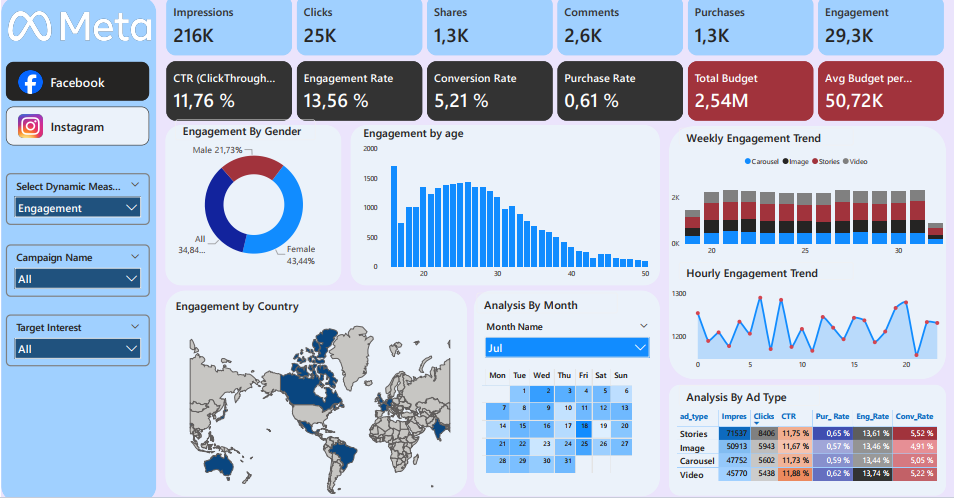

The page's visual inventory and layout, read from the dashboard file:
{"tool":"powerbi","page":{"name":"Facebook","canvas":[1620,940],"ordinal":0},"visuals":[{"type":"textbox","box":[371.7,0,590,61.7],"z":0},{"type":"shape","box":[0,82.7,263.2,857.3],"z":1000},{"type":"cardVisual","fields":{"Data":["ad_events.Impressions","ad_events.Clicks","ad_events.Shares","ad_events.Comments","ad_events.Purchases","ad_events.Engagement"]},"box":[263.2,63.9,1357.4,135.4],"z":2000},{"type":"cardVisual","fields":{"Data":["ad_events.CTR (ClickThrough Rate)","ad_events.Engagement Rate","ad_events.Conversion Rate","ad_events.Purchase Rate","ad_events.Total Budget","ad_events.Avg Budget per Campaign"]},"box":[263.2,174.8,1357.4,135.4],"z":4000},{"type":"slicer","fields":{"Values":["Select Dynamic Measure.Select Dynamic Measure"]},"box":[8.3,381.7,243.3,88.3],"z":5000},{"type":"shape","box":[278.2,300,298.9,272.6],"z":6000},{"type":"donutChart","fields":{"Category":["ads.target_gender"],"Y":["ad_events.Engagement"]},"box":[291.4,302.7,274.5,265.1],"z":7000},{"type":"cardVisual","fields":{"Data":["Select Dynamic Measure.Gender Title"]},"box":[278.2,274.5,272.6,69.6],"z":8000},{"type":"shape","box":[592.2,300,524.5,272.6],"z":9000},{"type":"columnChart","title":"Engagement by age","fields":{"Category":["users.user_age"],"Y":["ad_events.Engagement"]},"box":[609.1,300.8,494.4,268.8],"z":10000},{"type":"shape","box":[278.2,580.9,511.4,349.7],"z":11000},{"type":"shapeMap","title":"Engagement by Country","fields":{"Category":["users.country"],"Value":["ad_events.Engagement"]},"box":[291.4,594.1,498.2,336.5],"z":12000},{"type":"shape","box":[801,580.9,316,349.7],"z":13000},{"type":"pivotTable","fields":{"Columns":["Calendar.Day Name"],"Rows":["Calendar.Week Number"],"Values":["Sum(Calendar.Month Day)"]},"box":[810.8,709.7,301.1,220.4],"z":14000},{"type":"slicer","fields":{"Values":["Calendar.Month Name"]},"box":[809.7,626.9,298.9,90.3],"z":15000},{"type":"cardVisual","fields":{"Data":["Select Dynamic Measure.Calendar Title"]},"box":[789.2,567.7,273.1,69.9],"z":16000},{"type":"shape","box":[1132.3,302.2,469.9,430.1],"z":17000},{"type":"columnChart","fields":{"Category":["Calendar.Year Week_num"],"Series":["ads.ad_type"],"Y":["ad_events.Engagement"]},"box":[1132.3,341.9,469.9,189.2],"z":18000},{"type":"cardVisual","fields":{"Data":["Select Dynamic Measure.Weekly Title"]},"box":[1132.3,288.2,330.1,64.5],"z":18001},{"type":"areaChart","fields":{"Category":["ad_events.Event Hour"],"Y":["ad_events.Engagement"]},"box":[1132.3,573.1,469.9,151.6],"z":18002},{"type":"cardVisual","fields":{"Data":["Select Dynamic Measure.Hourly Title"]},"box":[1132.3,516.1,330.1,64.5],"z":18003},{"type":"shape","box":[1132.3,740.9,469.9,189.2],"z":18004},{"type":"pivotTable","fields":{"Rows":["ads.ad_type"],"Values":["ad_events.Impressions","ad_events.Clicks","ad_events.CTR (ClickThrough Rate)","ad_events.Purchase Rate","ad_events.Engagement Rate","ad_events.Conversion Rate"]},"box":[1141.2,780.2,453.1,150.4],"z":18005},{"type":"cardVisual","fields":{"Data":["Select Dynamic Measure.Ad Type Title"]},"box":[1132.3,724.7,273.1,69.9],"z":18006},{"type":"slicer","fields":{"Values":["campaigns.name"]},"box":[8.3,503.3,243.3,88.3],"z":18007},{"type":"slicer","fields":{"Values":["ads.target_interests"]},"box":[8.3,621.7,243.3,88.3],"z":18008},{"type":"image","box":[278.3,5,90,53.3],"z":18009},{"type":"image","box":[11.7,90,241.7,85],"z":18010},{"type":"pageNavigator","box":[8.3,193,243.3,143.3],"z":18011},{"type":"image","box":[26.7,207,45,40],"z":18012},{"type":"image","box":[26.7,282,45,40],"z":18013}]}

Visuals, with their boxes on the page's 1620x940 design canvas (x1, y1, x2, y2). These are canvas units, not pixel positions in the 954x498 screenshot, which may show the page scaled, cropped or inside an application window:
textbox: bbox=[372, 0, 962, 62]
shape: bbox=[0, 83, 263, 940]
cardVisual - ad_events.Impressions x ad_events.Clicks: bbox=[263, 64, 1621, 199]
cardVisual - ad_events.CTR (ClickThrough Rate) x ad_events.Engagement Rate: bbox=[263, 175, 1621, 310]
slicer - Select Dynamic Measure.Select Dynamic Measure: bbox=[8, 382, 252, 470]
shape: bbox=[278, 300, 577, 573]
donutChart - ads.target_gender x ad_events.Engagement: bbox=[291, 303, 566, 568]
cardVisual - Select Dynamic Measure.Gender Title: bbox=[278, 274, 551, 344]
shape: bbox=[592, 300, 1117, 573]
"Engagement by age" columnChart: bbox=[609, 301, 1104, 570]
shape: bbox=[278, 581, 790, 931]
"Engagement by Country" shapeMap: bbox=[291, 594, 790, 931]
shape: bbox=[801, 581, 1117, 931]
pivotTable - Calendar.Day Name x Calendar.Week Number: bbox=[811, 710, 1112, 930]
slicer - Calendar.Month Name: bbox=[810, 627, 1109, 717]
cardVisual - Select Dynamic Measure.Calendar Title: bbox=[789, 568, 1062, 638]
shape: bbox=[1132, 302, 1602, 732]
columnChart - Calendar.Year Week_num x ads.ad_type: bbox=[1132, 342, 1602, 531]
cardVisual - Select Dynamic Measure.Weekly Title: bbox=[1132, 288, 1462, 353]
areaChart - ad_events.Event Hour x ad_events.Engagement: bbox=[1132, 573, 1602, 725]
cardVisual - Select Dynamic Measure.Hourly Title: bbox=[1132, 516, 1462, 581]
shape: bbox=[1132, 741, 1602, 930]
pivotTable - ads.ad_type x ad_events.Impressions: bbox=[1141, 780, 1594, 931]
cardVisual - Select Dynamic Measure.Ad Type Title: bbox=[1132, 725, 1405, 795]
slicer - campaigns.name: bbox=[8, 503, 252, 592]
slicer - ads.target_interests: bbox=[8, 622, 252, 710]
image: bbox=[278, 5, 368, 58]
image: bbox=[12, 90, 253, 175]
pageNavigator: bbox=[8, 193, 252, 336]
image: bbox=[27, 207, 72, 247]
image: bbox=[27, 282, 72, 322]
